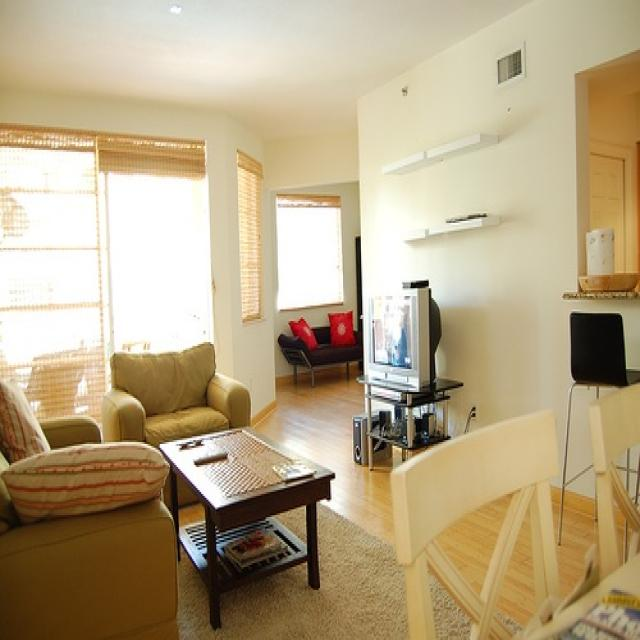chair: (390, 408, 566, 638), (102, 340, 251, 508), (557, 312, 639, 558), (589, 373, 639, 575)
sofa: (0, 369, 182, 638), (279, 312, 362, 391)
tvmonitor: (358, 285, 432, 390)
